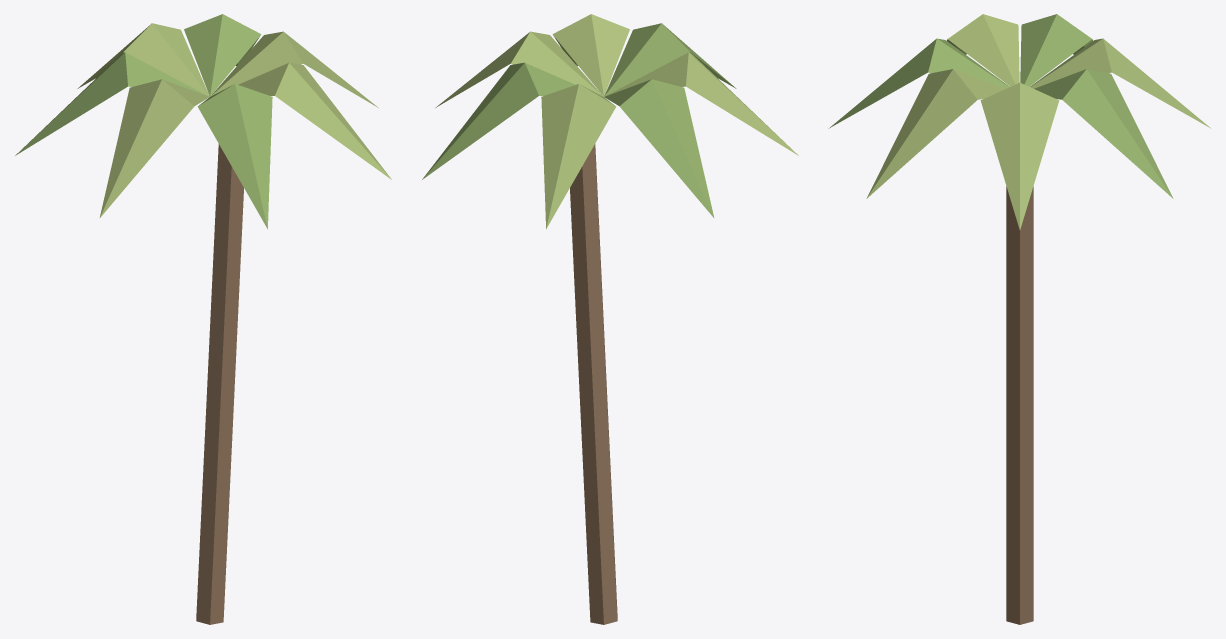
File: tree_coconut.glb
3 renders of one model, left to right at view 1: azimuth 30°, elevation 25°; view 2: azimuth 150°, elevation 25°; view 3: azimuth 270°, elevation 25°, orthographic.
Parts seen in each view (by area): view 1: part_0, part_6, part_5, part_7, part_2, part_4, part_3, part_1; view 2: part_0, part_3, part_4, part_2, part_7, part_5, part_6, part_1; view 3: part_0, part_1, part_2, part_7, part_4, part_5, part_3, part_6.
Boxes of the visible parts, x1,y1,x2,y2 form: part_0: (196, 144, 243, 624); part_6: (197, 84, 272, 229); part_5: (99, 79, 209, 217); part_7: (238, 62, 391, 179); part_2: (184, 14, 261, 96); part_4: (15, 52, 208, 155); part_3: (77, 23, 209, 96); part_1: (210, 31, 378, 107); part_0: (570, 144, 617, 624); part_3: (541, 84, 616, 229); part_4: (604, 79, 714, 217); part_2: (422, 62, 575, 179); part_7: (552, 14, 629, 96); part_5: (605, 52, 798, 155); part_6: (604, 23, 736, 96); part_1: (435, 31, 603, 107); part_0: (1006, 186, 1033, 624); part_1: (980, 82, 1059, 229); part_2: (1034, 69, 1173, 198); part_7: (866, 69, 1005, 198); part_4: (1020, 14, 1092, 86); part_5: (947, 14, 1019, 86); part_3: (1030, 38, 1211, 128); part_6: (828, 38, 1009, 128).
Size of the model in its own units: 2.85 by 4.81 by 2.92.
